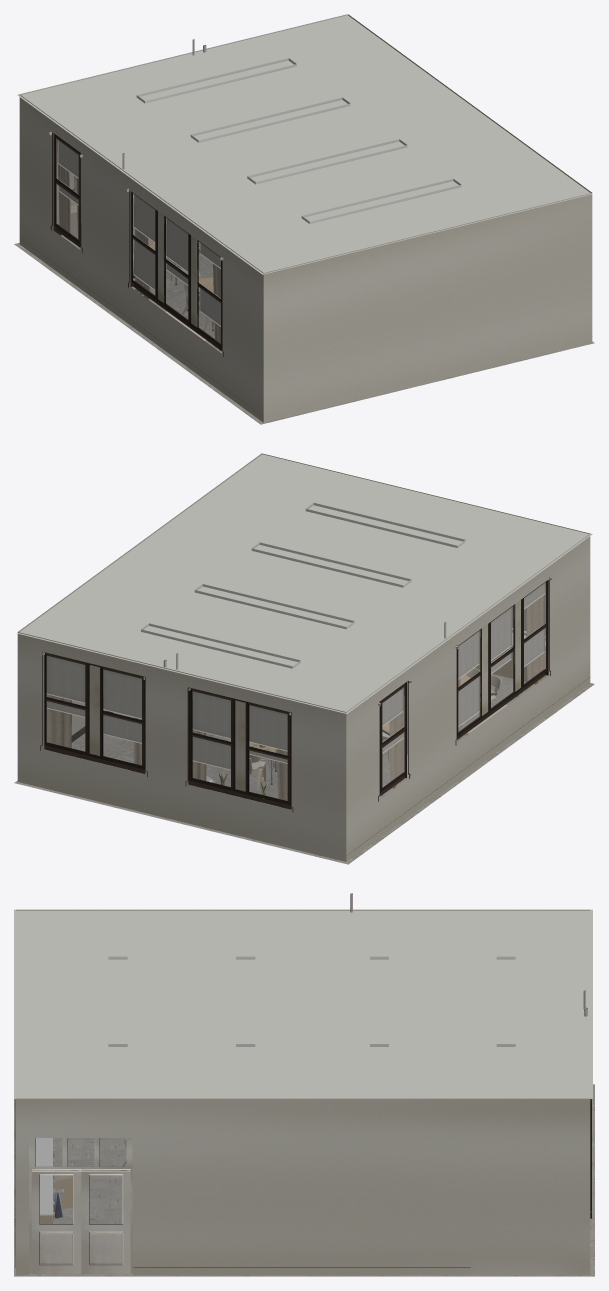
File: millineryRoom_mediaEmb.fbx
The picture shows the model from 3 angles, top to bottom: view 1: azimuth 30°, elevation 25°; view 2: azimuth 150°, elevation 25°; view 3: azimuth 270°, elevation 25°; orthographic projection. The views are drawn at different scales.
Parts seen in each view (by area): view 1: ceiling1, walls, window9, groundFloor, light43 (×3), window, sIndustrialLight:light43, windowShade16, windowShade12, windowShade13, curtains5, windowShade15; view 2: ceiling1, walls, window6, window8, window9, groundFloor, light43 (×3), window, windowShade8, windowShade7, windowShade3, windowShade4 (+11 smaller); view 3: ceiling1, walls, groundFloor, door2, door1, doorFrame, cabinet.
Part boxes in pixels (x1=…): ceiling1: x1=17, y1=14, x2=591, y2=274; walls: x1=19, y1=14, x2=592, y2=422; window9: x1=128, y1=189, x2=223, y2=356; groundFloor: x1=14, y1=226, x2=594, y2=424; light43 (×3): x1=136, y1=58, x2=407, y2=184; window: x1=50, y1=132, x2=82, y2=253; sIndustrialLight:light43: x1=301, y1=178, x2=461, y2=223; windowShade16: x1=166, y1=218, x2=188, y2=272; windowShade12: x1=133, y1=236, x2=155, y2=290; windowShade13: x1=133, y1=194, x2=155, y2=242; curtains5: x1=57, y1=139, x2=70, y2=235; windowShade15: x1=199, y1=284, x2=220, y2=326; ceiling1: x1=18, y1=454, x2=592, y2=713; walls: x1=17, y1=453, x2=590, y2=861; window6: x1=185, y1=687, x2=293, y2=812; window8: x1=40, y1=651, x2=147, y2=776; window9: x1=455, y1=577, x2=550, y2=745; groundFloor: x1=14, y1=673, x2=594, y2=864; light43 (×3): x1=141, y1=542, x2=411, y2=668; window: x1=378, y1=681, x2=410, y2=801; windowShade8: x1=103, y1=669, x2=141, y2=719; windowShade7: x1=46, y1=656, x2=85, y2=703; windowShade3: x1=192, y1=691, x2=230, y2=738; windowShade4: x1=249, y1=705, x2=287, y2=751; ceiling1: x1=14, y1=909, x2=592, y2=1098; walls: x1=16, y1=909, x2=590, y2=1275; groundFloor: x1=14, y1=1084, x2=594, y2=1276; door2: x1=81, y1=1169, x2=130, y2=1273; door1: x1=32, y1=1169, x2=81, y2=1273; doorFrame: x1=29, y1=1138, x2=132, y2=1273; cabinet: x1=36, y1=1138, x2=52, y2=1223.
Bounding box in the file's own units: 9.51 × 4.53 × 12.15.
